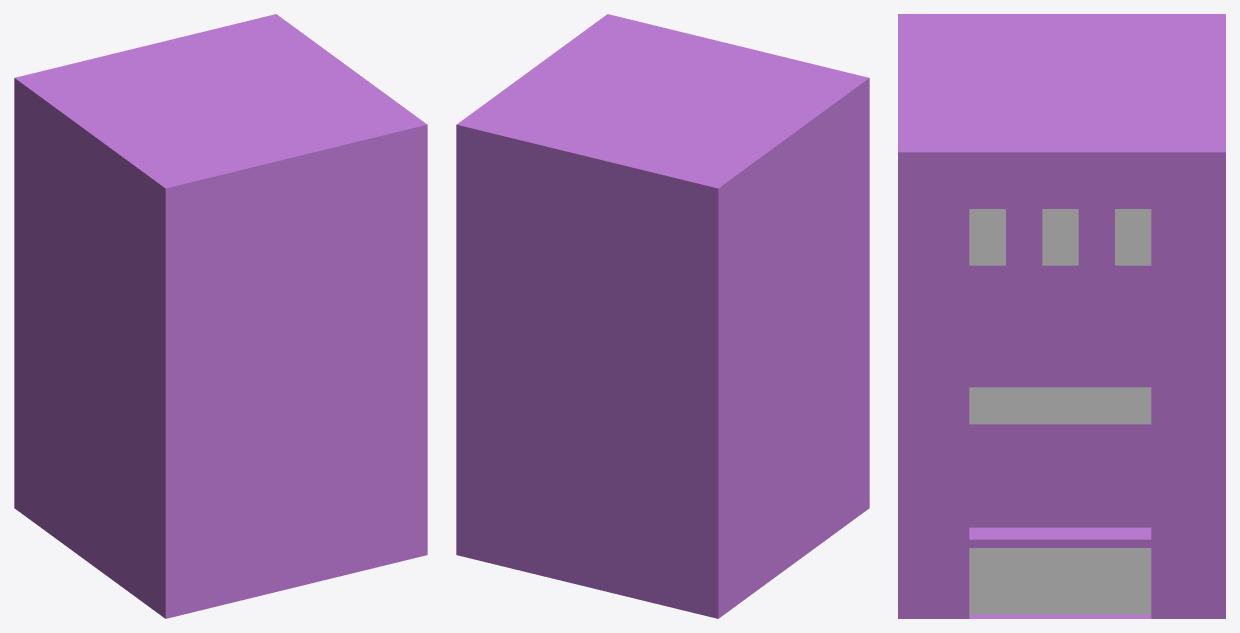
The picture shows the model from 3 angles, left to right: view 1: azimuth 30°, elevation 25°; view 2: azimuth 150°, elevation 25°; view 3: azimuth 270°, elevation 25°; orthographic projection. The views are drawn at different scales.
Parts seen in each view (by area): view 1: Cube; view 2: Cube; view 3: Cube, Cube.001, Cube.005, Cube.004, Cube.002, Cube.003.
Boxes of the visible parts, x1,y1,x2,y2 form: Cube: (14, 14, 427, 618); Cube: (456, 14, 869, 618); Cube: (898, 14, 1225, 618); Cube.001: (969, 548, 1151, 614); Cube.005: (969, 387, 1151, 424); Cube.004: (969, 209, 1151, 265); Cube.002: (969, 527, 1151, 547); Cube.003: (993, 614, 1139, 618).
Size of the model in its own units: 851 by 1228 by 782.
